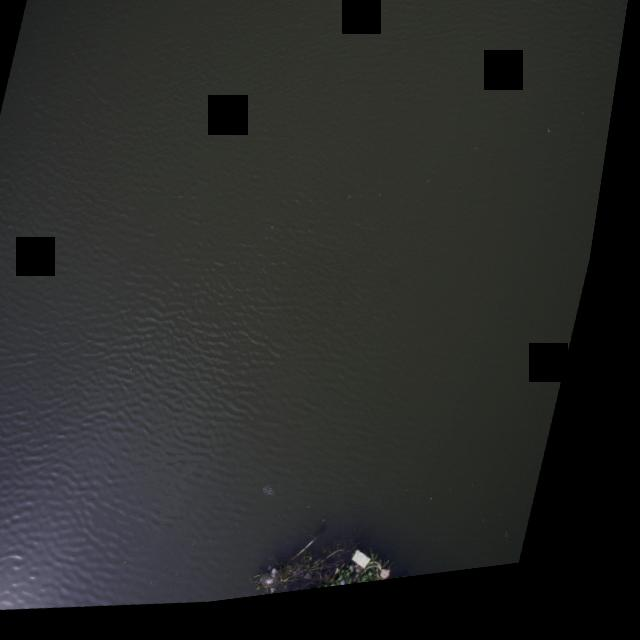plastic: (273, 570, 308, 605), (365, 553, 394, 583), (275, 491, 294, 509), (348, 576, 361, 596), (396, 580, 413, 593), (321, 581, 339, 593), (309, 577, 324, 591), (356, 589, 368, 597)
